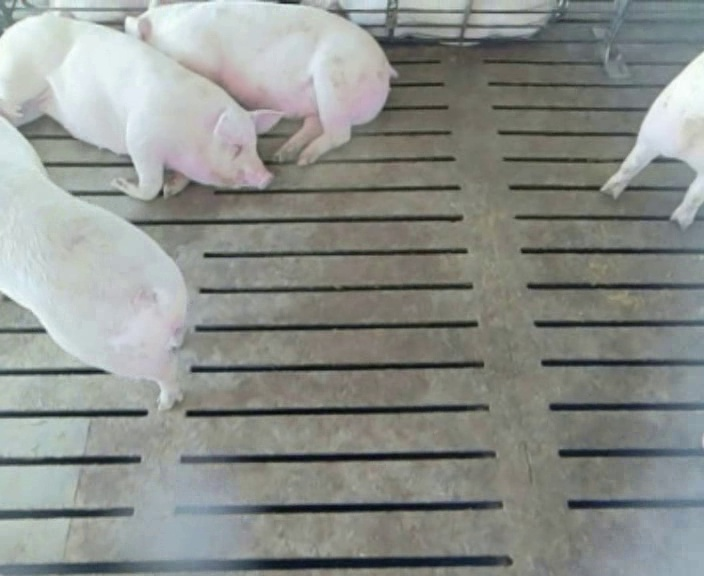pig: (126, 2, 395, 165), (601, 52, 703, 229)
